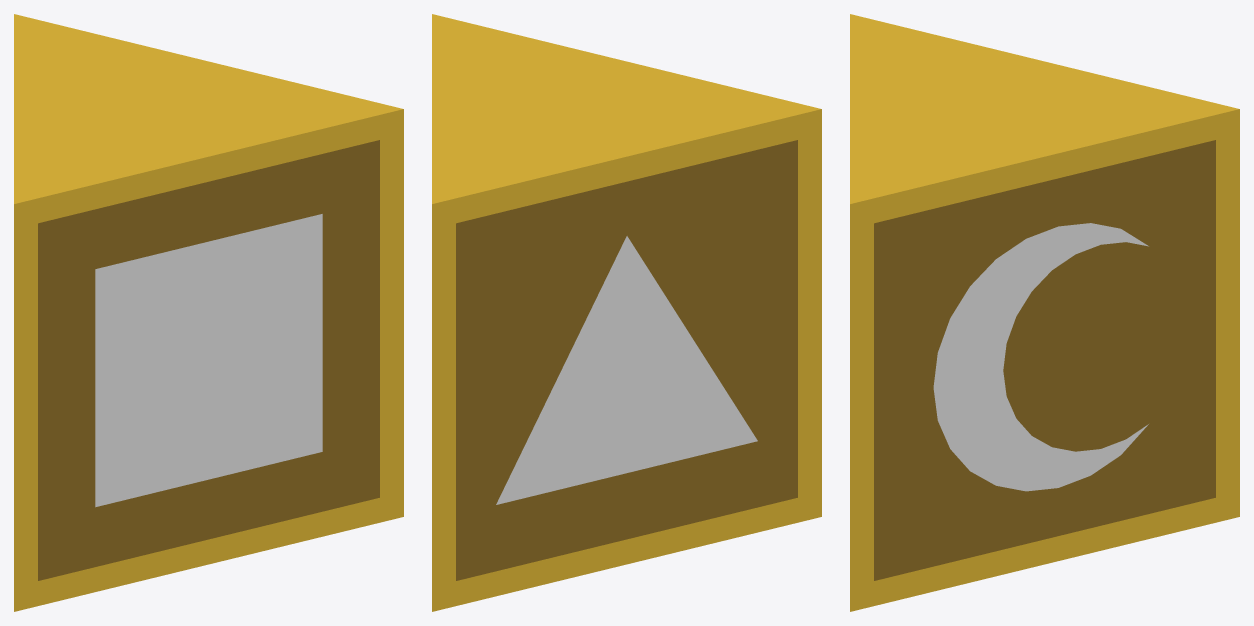
Rendered from mdl_zesty_powerlid_dial.gltf.
The picture shows the model from 3 angles, left to right: view 1: azimuth 30°, elevation 25°; view 2: azimuth 150°, elevation 25°; view 3: azimuth 270°, elevation 25°; orthographic projection.
Parts seen in each view (by area): view 1: mdl_zesty_powerlid_dial; view 2: mdl_zesty_powerlid_dial; view 3: mdl_zesty_powerlid_dial.
Part boxes in pixels (x1=…): mdl_zesty_powerlid_dial: x1=14, y1=14, x2=403, y2=611; mdl_zesty_powerlid_dial: x1=432, y1=14, x2=821, y2=611; mdl_zesty_powerlid_dial: x1=850, y1=14, x2=1239, y2=611.
Size of the model in its own units: 0.1001 by 0.1001 by 0.0867.
